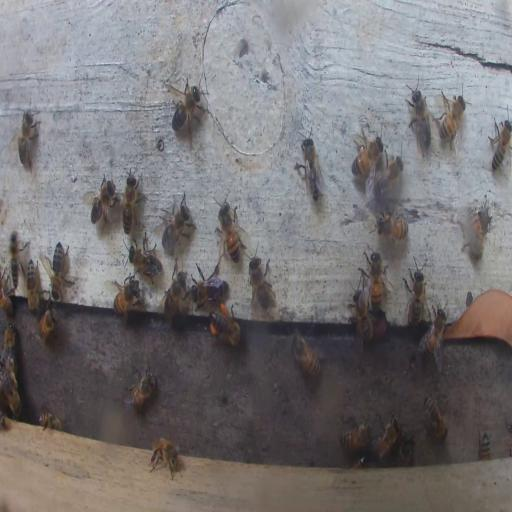nonpollenbee: (169, 79, 205, 141), (406, 77, 433, 157), (159, 191, 196, 249), (416, 304, 446, 365), (217, 194, 243, 264), (298, 135, 323, 203), (86, 174, 118, 227), (16, 101, 40, 171), (439, 90, 466, 149), (404, 256, 426, 328), (349, 289, 376, 347), (120, 169, 144, 234), (121, 364, 157, 407), (47, 240, 71, 304), (350, 135, 385, 177), (247, 254, 273, 310), (128, 236, 162, 278), (292, 333, 322, 379), (192, 264, 224, 306), (488, 116, 512, 172), (370, 417, 400, 461), (149, 436, 181, 477), (423, 392, 449, 442), (112, 275, 141, 319), (372, 154, 403, 195), (1, 357, 20, 419), (164, 268, 188, 317), (467, 208, 489, 260), (339, 422, 373, 454), (9, 230, 24, 287), (376, 212, 408, 238), (25, 256, 39, 312), (370, 252, 382, 314), (0, 265, 15, 312), (39, 305, 56, 340), (2, 324, 16, 363), (396, 438, 414, 464), (38, 412, 62, 430), (479, 431, 492, 461)
pollenbee: (208, 305, 244, 347)
